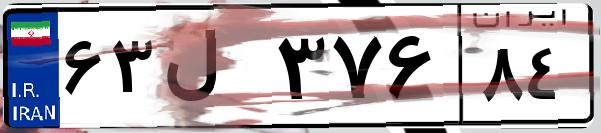3: (270, 28, 330, 110), (110, 28, 158, 98)
4: (525, 38, 570, 115)
6: (385, 28, 445, 110), (57, 26, 110, 100)
7: (330, 28, 385, 110)
8: (475, 38, 525, 113)
ل: (158, 20, 270, 120)
